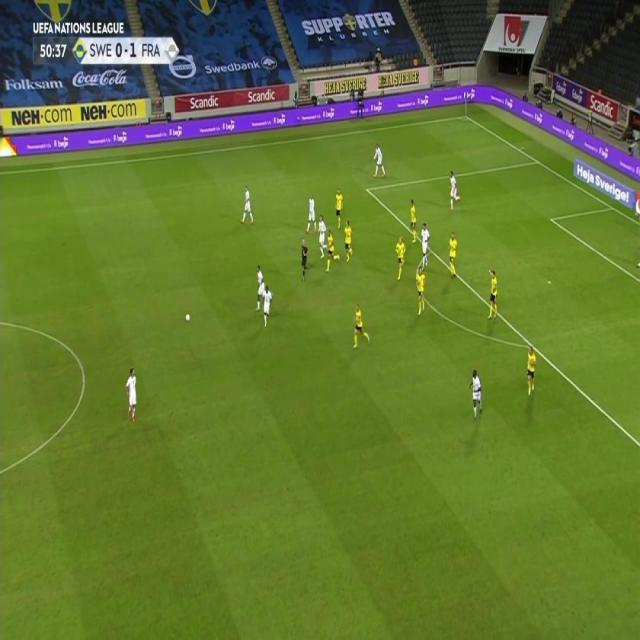ball: (185, 311, 191, 322)
player: (351, 302, 371, 351), (468, 367, 484, 424), (124, 365, 139, 423), (486, 267, 500, 321), (323, 228, 340, 272), (415, 263, 428, 317), (524, 345, 537, 397), (447, 169, 462, 212), (254, 264, 267, 312), (394, 235, 407, 282), (261, 285, 275, 328), (419, 222, 432, 267), (447, 230, 459, 278), (241, 185, 255, 226), (372, 143, 388, 178), (342, 218, 354, 263), (305, 192, 317, 234), (333, 188, 345, 230), (409, 197, 419, 240), (317, 215, 328, 250)
referee: (300, 238, 310, 283)
